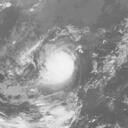cyclone: (38, 45, 77, 84)
